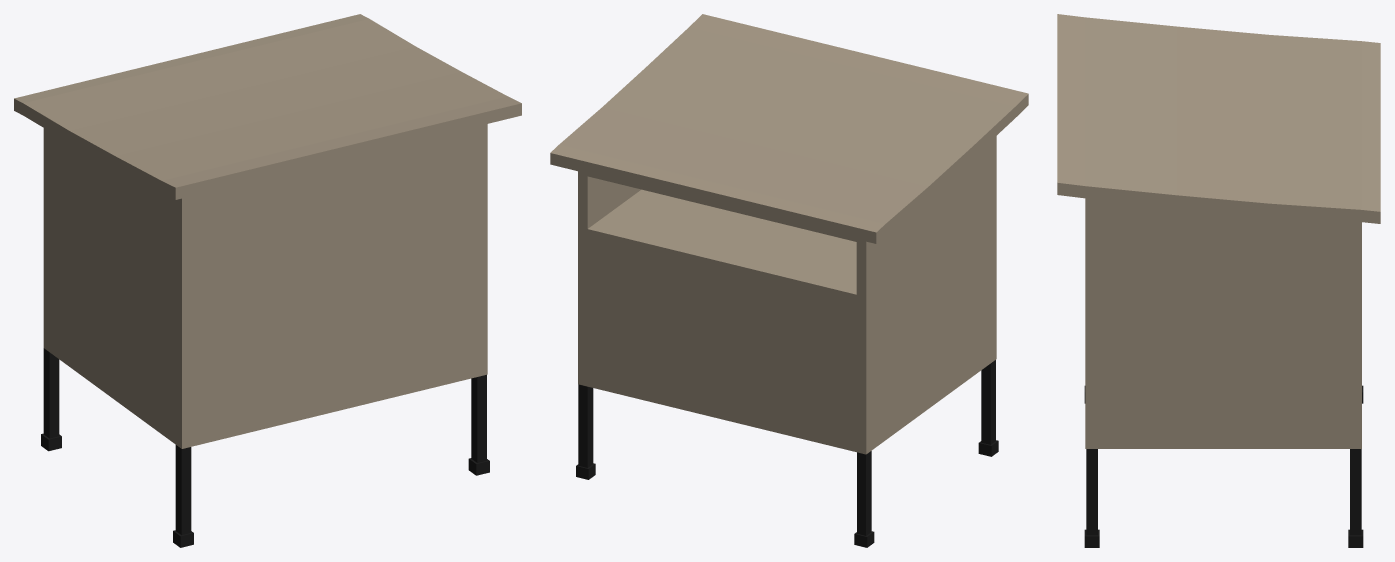
File: LV2_TeacherLectern.fbx
3 views of the same model, side by side, from view 1: azimuth 30°, elevation 25°; view 2: azimuth 150°, elevation 25°; view 3: azimuth 270°, elevation 25° (orthographic). The views are drawn at different scales.
Visible parts, largest first — view 1: Tableleg5; view 2: Tableleg5; view 3: Tableleg5.
Boxes of the visible parts, <box> form: Tableleg5: <box>14,14,521,547</box>; Tableleg5: <box>550,14,1028,547</box>; Tableleg5: <box>1057,14,1380,547</box>.
Size of the model in its own units: 0.8573 by 0.8864 by 0.6934.
